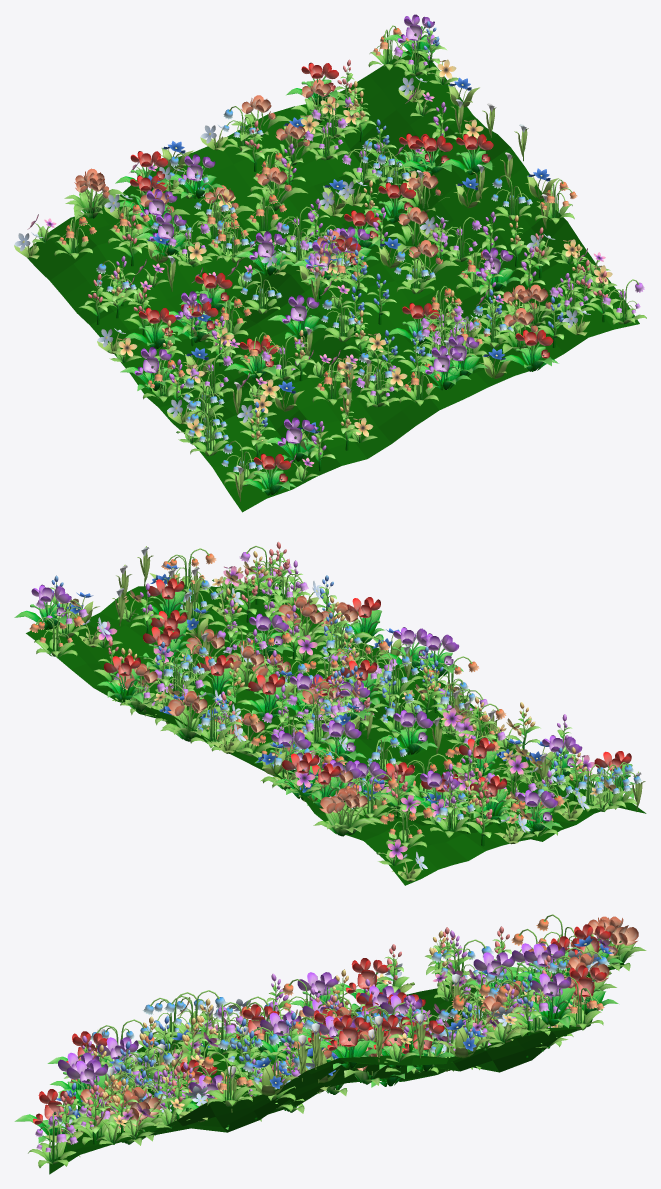
3 renders of one model, top to bottom at view 1: azimuth 30°, elevation 25°; view 2: azimuth 150°, elevation 25°; view 3: azimuth 270°, elevation 25°, orthographic. The views are drawn at different scales.
Parts seen in each view (by area): view 1: Plane, Cylinder.012; view 2: Plane, Cylinder.012, Cylinder.010; view 3: Plane, Cylinder.011.
Boxes of the visible parts, x1=… form: Plane: x1=14, y1=14, x2=646, y2=512; Cylinder.012: x1=291, y1=240, x2=351, y2=284; Plane: x1=14, y1=542, x2=646, y2=885; Cylinder.012: x1=331, y1=680, x2=374, y2=719; Cylinder.010: x1=295, y1=679, x2=353, y2=723; Plane: x1=14, y1=914, x2=646, y2=1174; Cylinder.011: x1=291, y1=1008, x2=350, y2=1043.
Size of the model in its own units: 1344 by 830 by 1472.
